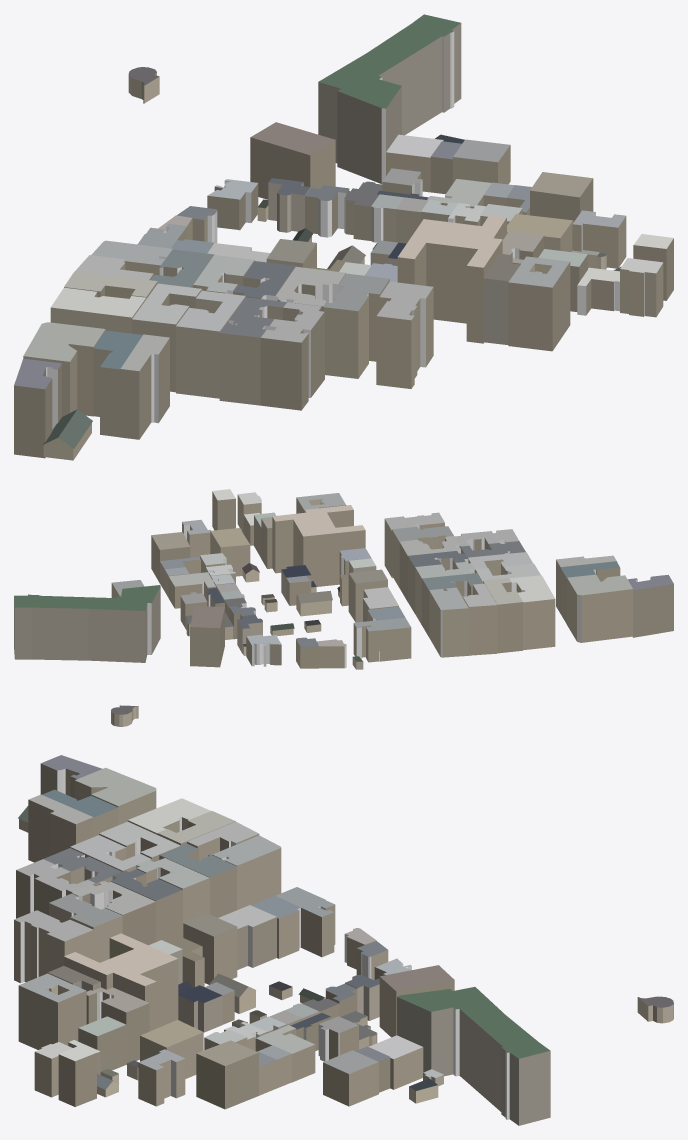
3 views of the same model, one above another, from view 1: azimuth 30°, elevation 25°; view 2: azimuth 150°, elevation 25°; view 3: azimuth 270°, elevation 25° (orthographic). The views are drawn at different scales.
Visible parts, largest first — view 1: tuile; view 2: tuile; view 3: tuile.
Part boxes in pixels (bbox=[...]): tuile: bbox=[14, 14, 673, 460]; tuile: bbox=[14, 489, 673, 726]; tuile: bbox=[14, 755, 673, 1125].
Bounding box in the file's own units: 268 × 29.35 × 246.
